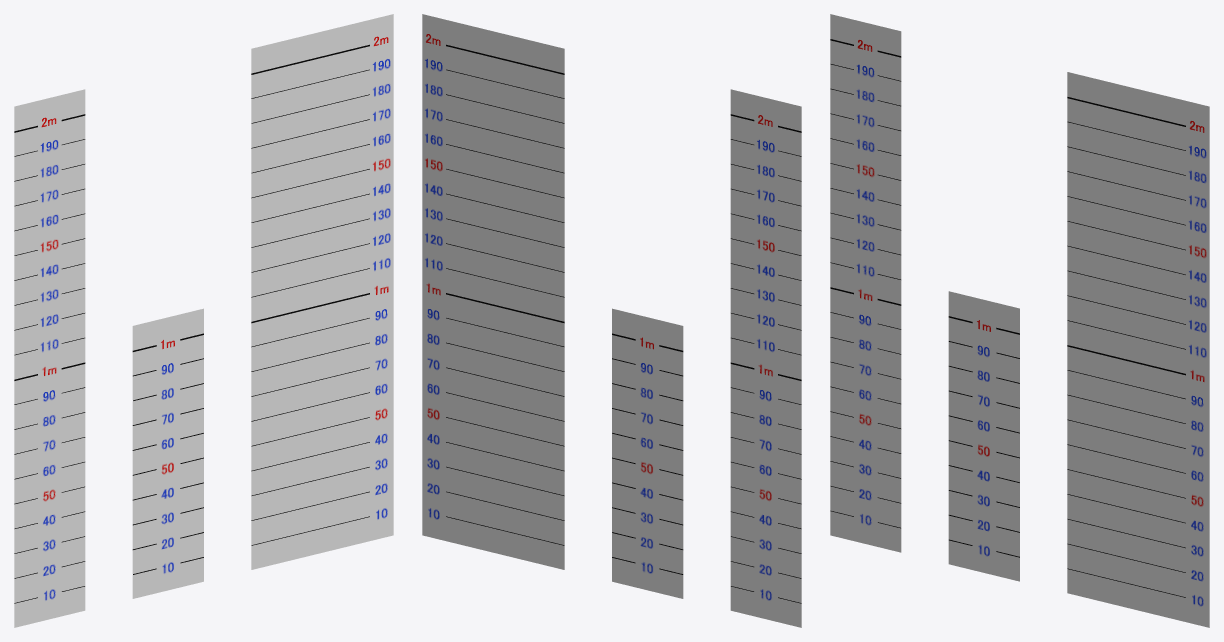
File: meter.fbx
3 renders of one model, left to right at view 1: azimuth 30°, elevation 25°; view 2: azimuth 150°, elevation 25°; view 3: azimuth 330°, elevation 25°, orthographic.
Parts seen in each view (by area): view 1: meter_2m, meter, meter_1m; view 2: meter_2m, meter, meter_1m; view 3: meter_2m, meter, meter_1m.
Part boxes in pixels (left/top/right/bottom): meter_2m: left=251, top=14, right=393, bottom=569; meter: left=14, top=89, right=85, bottom=627; meter_1m: left=132, top=308, right=203, bottom=598; meter_2m: left=422, top=14, right=564, bottom=569; meter: left=730, top=89, right=801, bottom=627; meter_1m: left=612, top=308, right=683, bottom=598; meter_2m: left=1067, top=72, right=1209, bottom=627; meter: left=830, top=14, right=901, bottom=552; meter_1m: left=948, top=291, right=1019, bottom=581.
Bounding box in the file's own units: 160 × 210 × 0.0298.
Materials: 2 (1 with a texture image).
